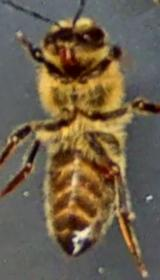varroa_mite: (95, 157, 122, 182)
